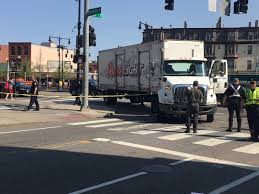truck: (96, 38, 228, 123)
